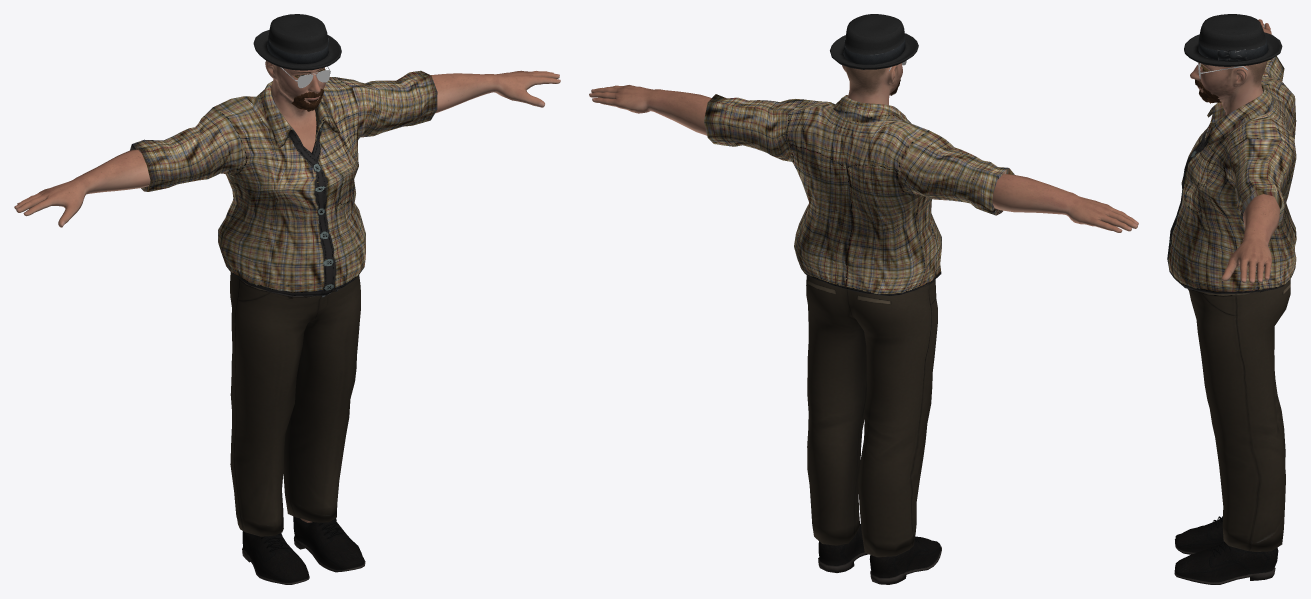
The model's file is heisenberg2.obj.
3 views of the same model, side by side, from view 1: azimuth 30°, elevation 25°; view 2: azimuth 150°, elevation 25°; view 3: azimuth 270°, elevation 25° (orthographic).
Parts seen in each view (by area): view 1: Tops, Bottoms, Body, Shoes, Hats; view 2: Tops, Bottoms, Body, Hats, Shoes; view 3: Tops, Bottoms, Body, Shoes, Hats.
Boxes of the visible parts, x1,y1,x2,y2 form: Tops: (130, 70, 437, 296); Bottoms: (230, 272, 360, 536); Body: (14, 60, 560, 522); Shoes: (242, 516, 365, 584); Hats: (253, 14, 341, 70); Tops: (704, 94, 1014, 296); Bottoms: (806, 275, 937, 557); Body: (589, 63, 1138, 232); Hats: (830, 14, 918, 69); Shoes: (818, 523, 941, 584); Tops: (1167, 56, 1296, 294); Bottoms: (1188, 279, 1290, 551); Body: (1190, 19, 1280, 283); Shoes: (1174, 516, 1278, 584); Hats: (1184, 14, 1282, 66).
Bounding box in the file's own units: 194 × 183 × 39.74.
